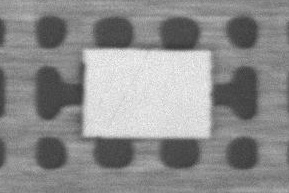DIE_CRACK: (160, 33, 223, 85)
